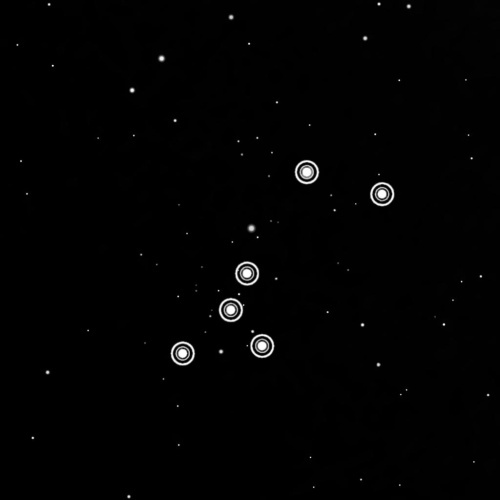canis_major: (162, 153, 402, 377)
